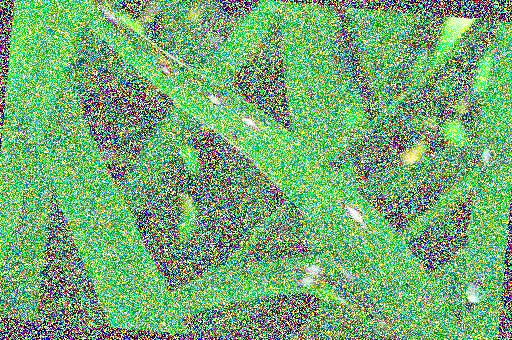Brown_Spot: (336, 197, 379, 227), (88, 0, 135, 27), (472, 142, 497, 180), (152, 57, 188, 77), (235, 110, 261, 131), (203, 85, 227, 107)
